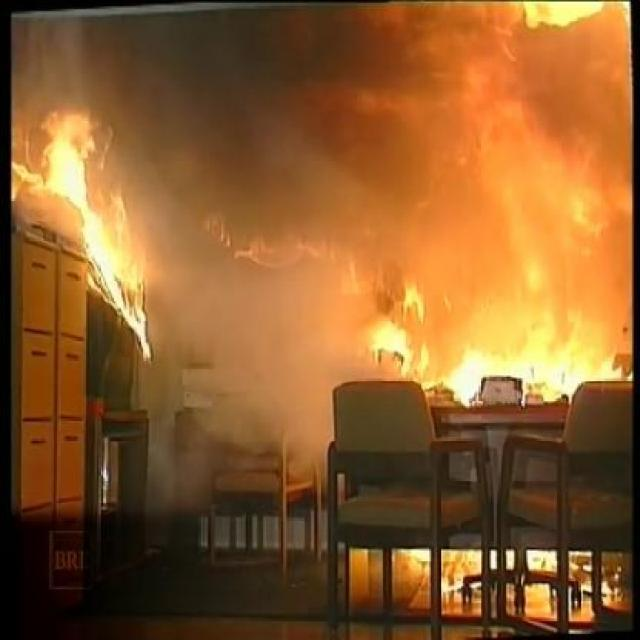fire: (334, 73, 622, 372), (28, 90, 128, 278)
smoke: (162, 198, 302, 400), (70, 22, 282, 120)
